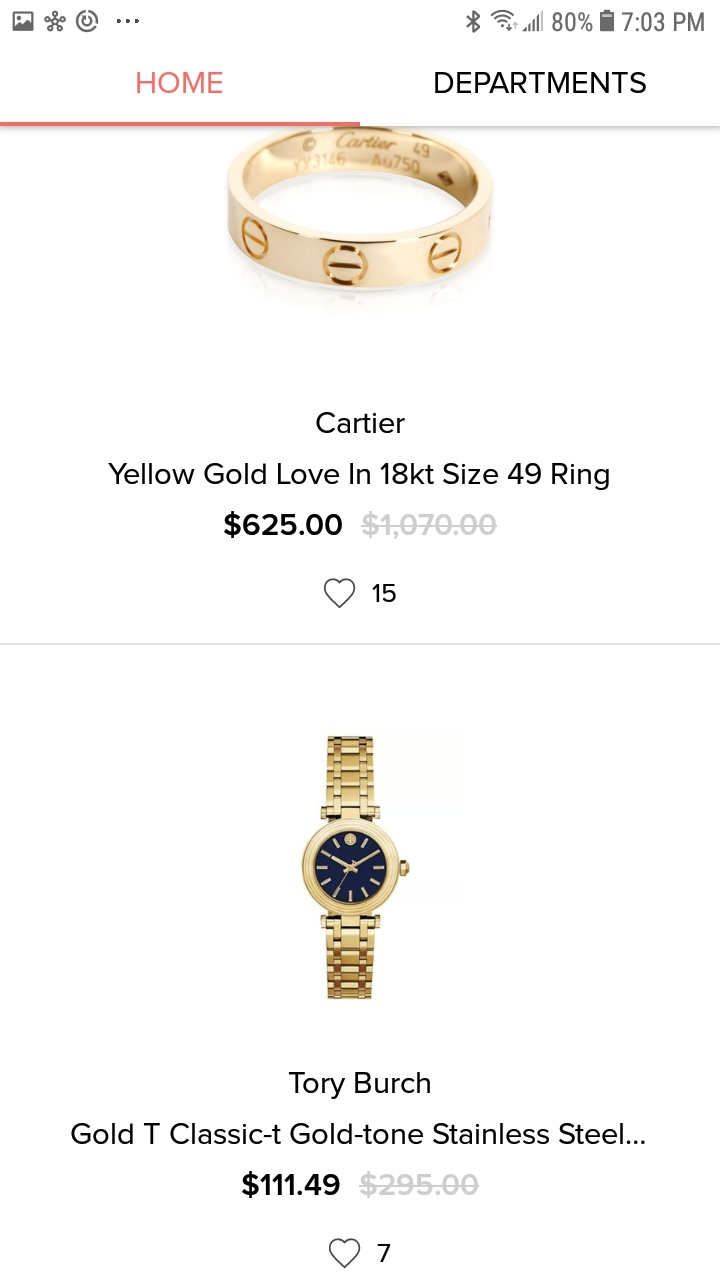Icon: (329, 1237, 361, 1268), (324, 578, 356, 609)
Image: (226, 127, 494, 320), (301, 735, 410, 1000)
Text: (109, 462, 609, 492), (71, 1122, 646, 1145), (224, 511, 499, 538), (242, 1171, 480, 1199), (435, 72, 647, 94), (289, 1072, 431, 1100), (316, 412, 406, 435), (136, 72, 223, 95), (372, 584, 397, 604), (377, 1243, 391, 1262)
UpperTaskBar: (1, 1, 720, 34)
